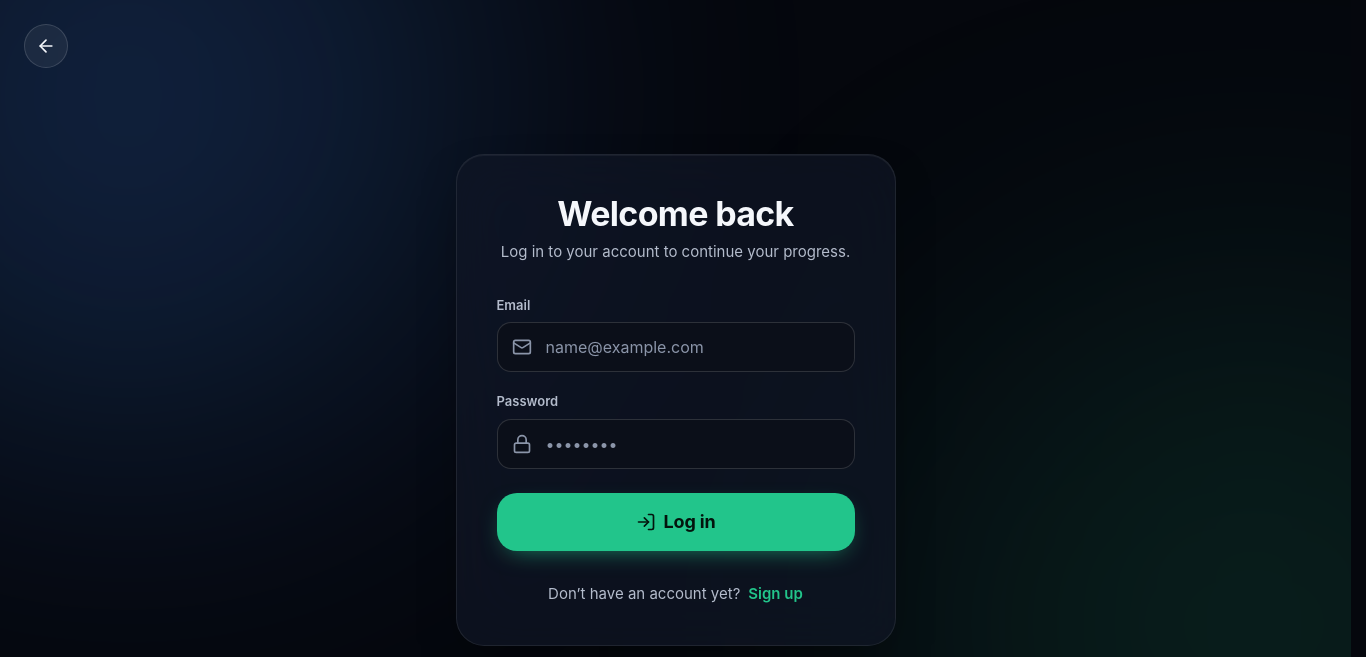
Test case: AppRoutes › returns to the requested page after logging in
The image size is (1366, 657).
Type "r@example.com" into the field labelled "Email" at (692, 347), box x1=544 y1=323 x2=840 y2=371
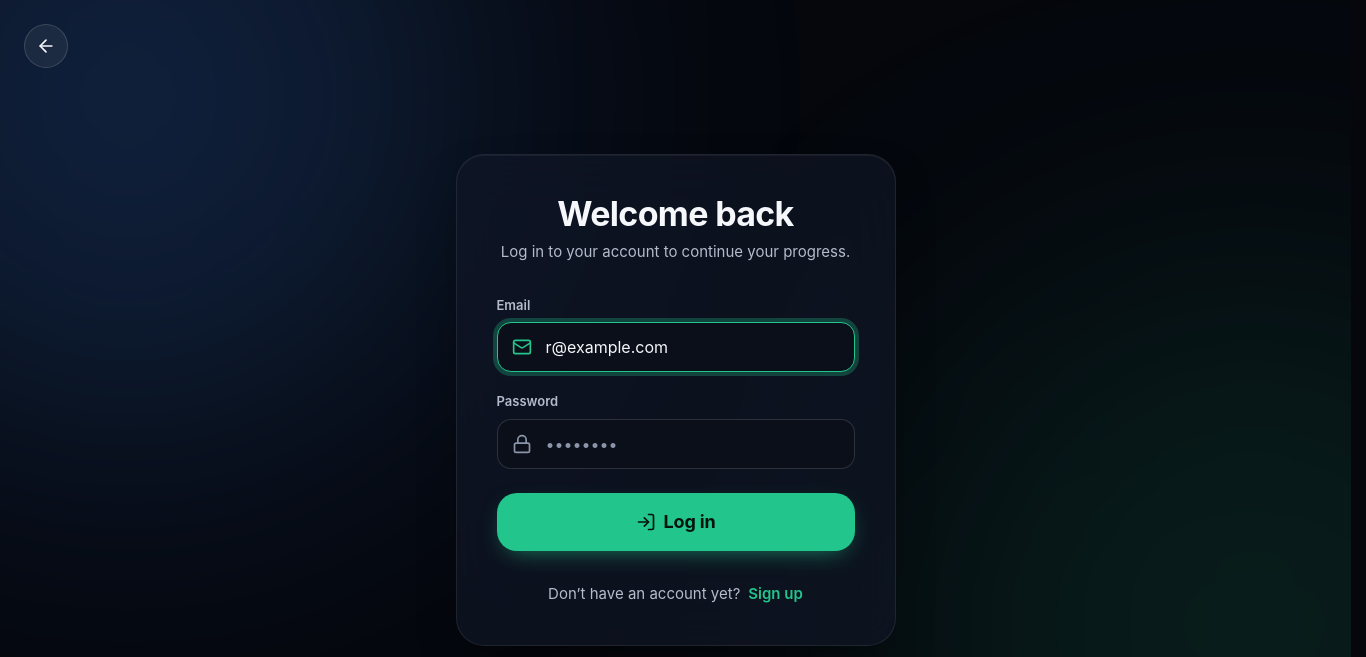
Type "secret-pass" into the password field labelled "Password" at (692, 444), box x1=544 y1=420 x2=840 y2=468
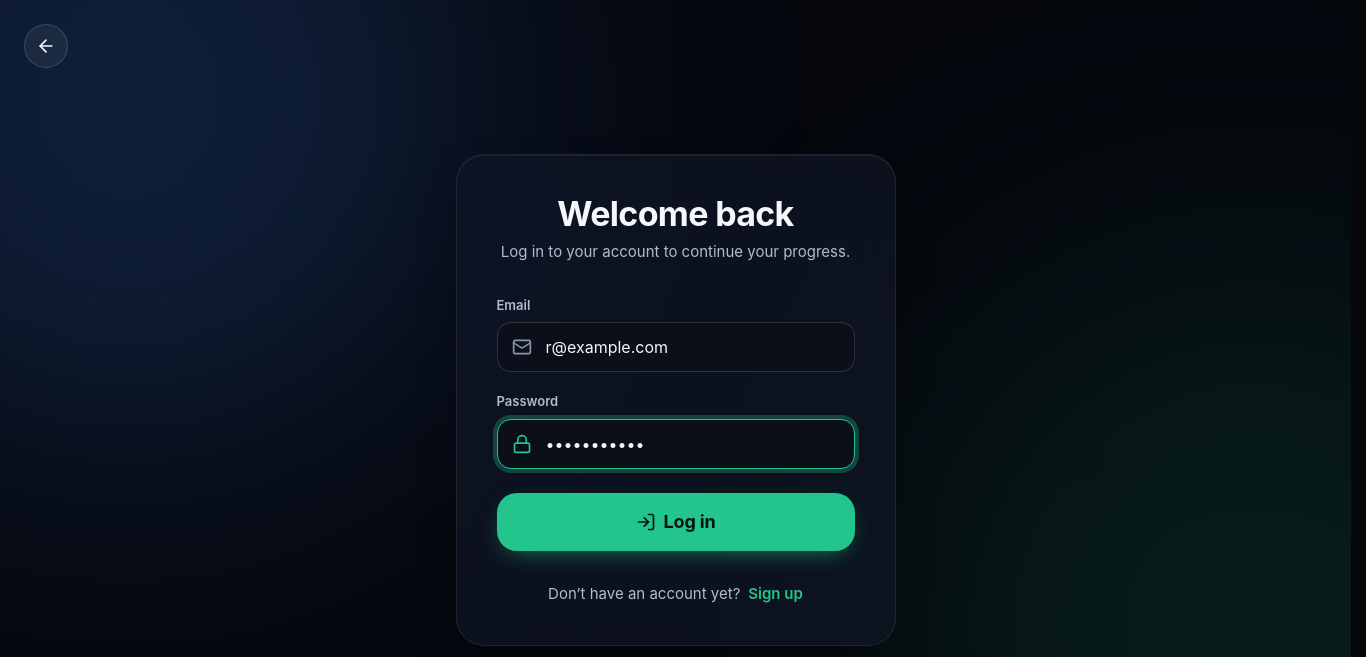
Click the button "Log in" at (676, 522), box x1=496 y1=492 x2=854 y2=550
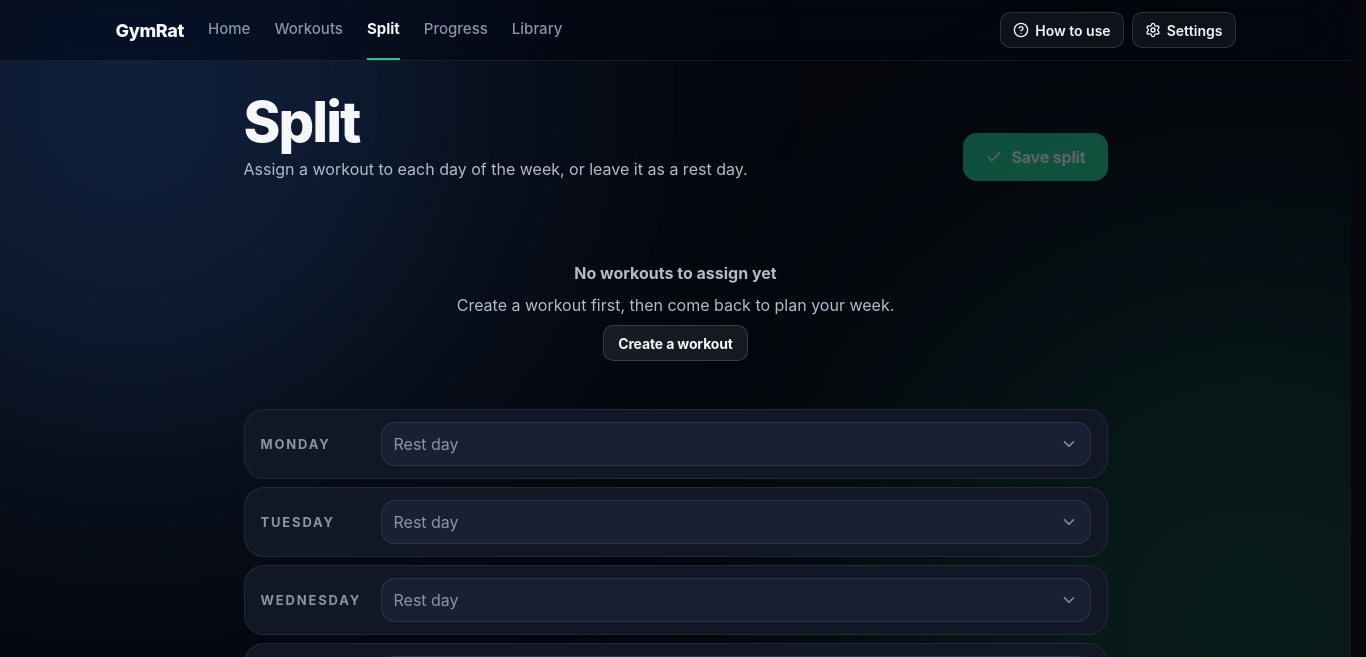
Expected: the heading "Split" is shown, x1=244 y1=88 x2=360 y2=156
